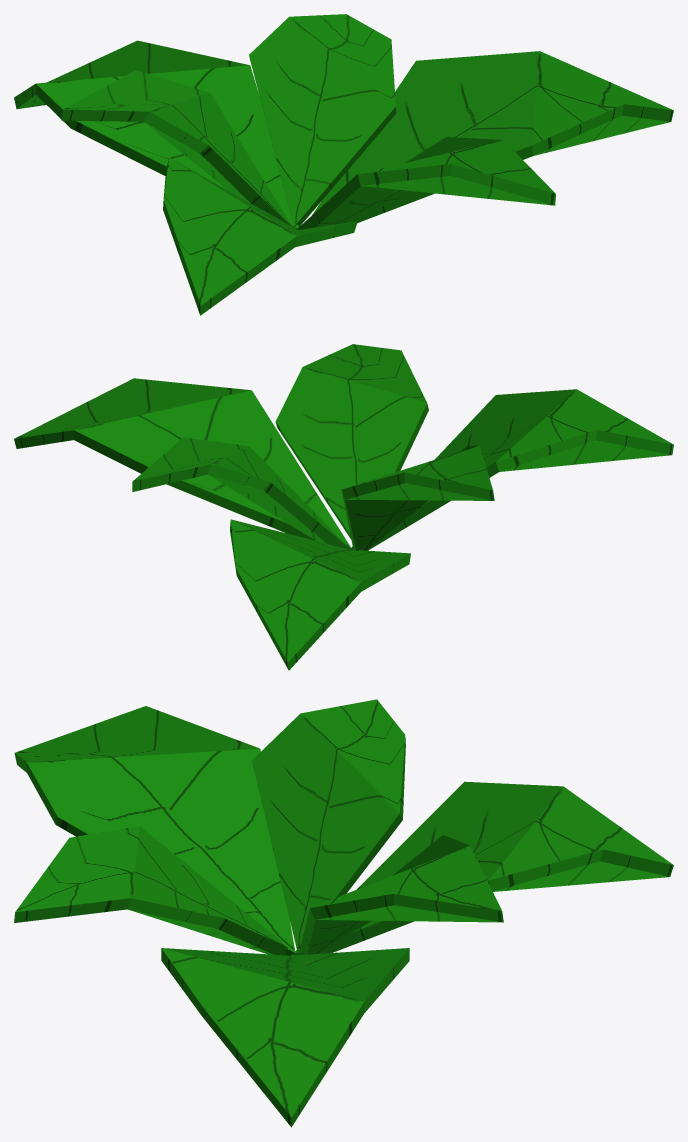
File: Planta.obj
3 renders of one model, top to bottom at view 1: azimuth 30°, elevation 25°; view 2: azimuth 150°, elevation 25°; view 3: azimuth 270°, elevation 25°, orthographic. The views are drawn at different scales.
Parts seen in each view (by area): view 1: Plant_1; view 2: Plant_1; view 3: Plant_1.
Part boxes in pixels (x1,y1,x2,y2): Plant_1: [14, 14, 673, 315]; Plant_1: [14, 344, 673, 670]; Plant_1: [14, 699, 673, 1127].
Bounding box in the file's own units: 1.23 × 0.3238 × 1.09.
Materials: 1 (1 with a texture image).
